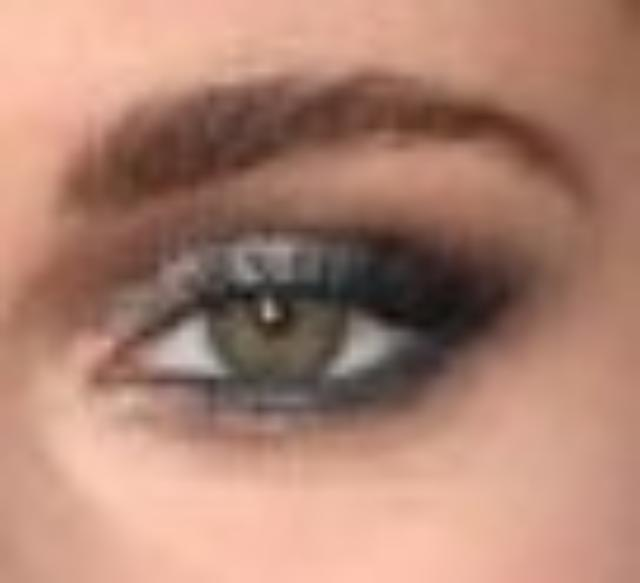eye: (203, 283, 357, 395)
